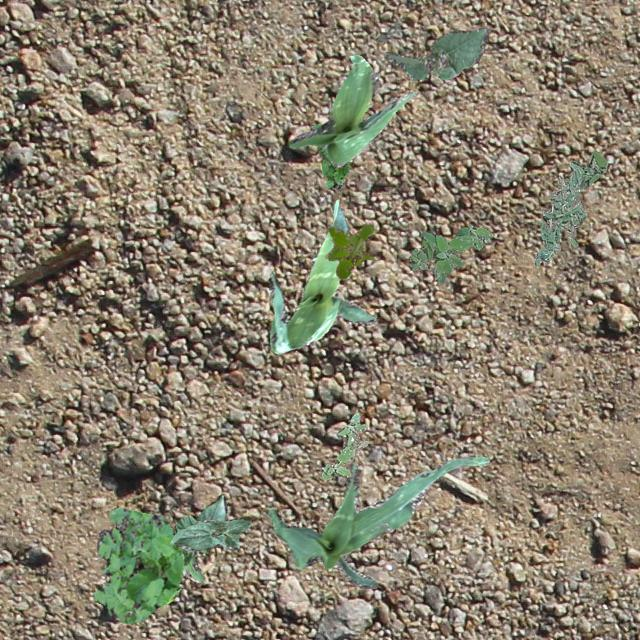crop: (267, 454, 488, 588), (268, 198, 376, 354), (288, 54, 418, 166), (384, 26, 486, 78), (174, 494, 226, 580), (170, 516, 250, 550)
weed: (92, 506, 182, 624), (534, 166, 586, 264), (408, 224, 491, 284), (320, 412, 368, 479), (308, 122, 349, 188), (324, 222, 372, 278), (564, 150, 608, 186)
